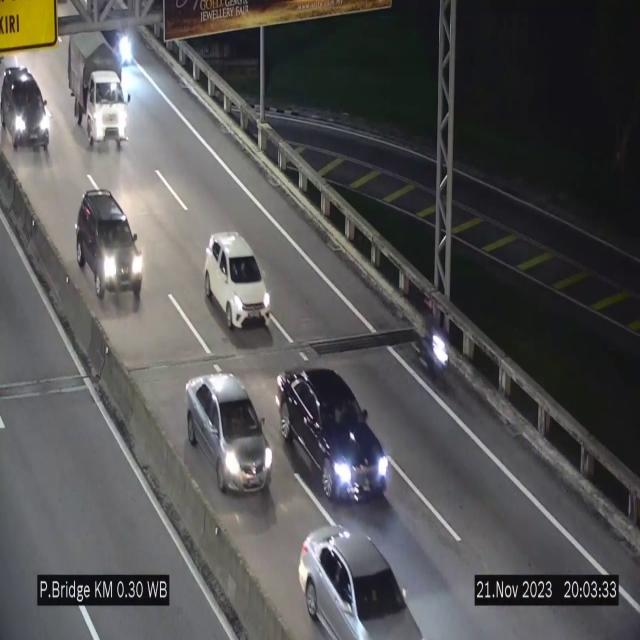Car: (293, 495, 423, 640), (272, 359, 389, 504), (186, 374, 274, 492), (73, 185, 145, 300), (205, 232, 271, 329), (0, 67, 53, 153)
Motorcycle: (416, 290, 450, 386)
Truck: (65, 31, 132, 151)
